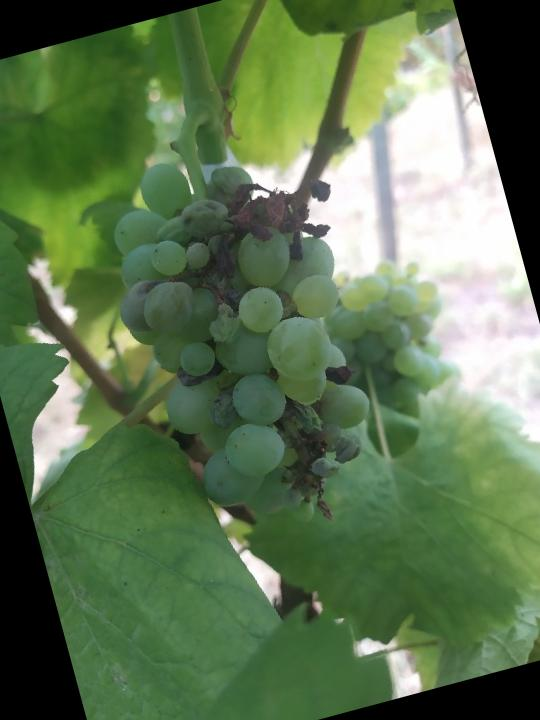grape: (84, 121, 416, 564)
